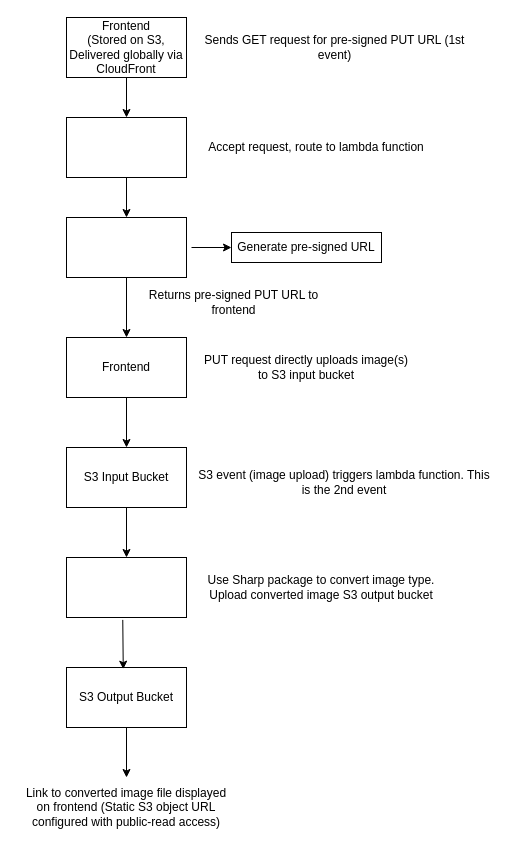
Image size: 508x846. Some labels were removed from this diagram. Here are the shapes that lost their labels. From the top down, the centre of each, then its label:
the point at 126,147: API Gateway
the point at 126,247: Lambda (provides pre-signed URL for image upload)
the point at 126,587: Lambda (separate lambda for image processing)
